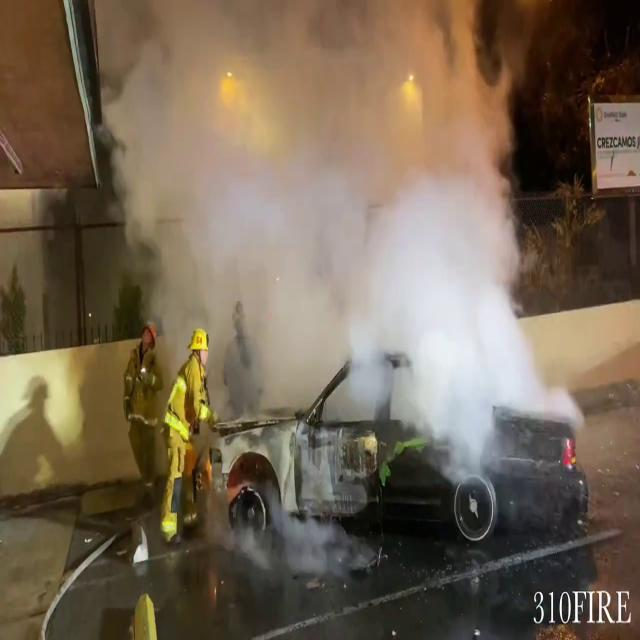Smoke: (61, 0, 572, 474)
